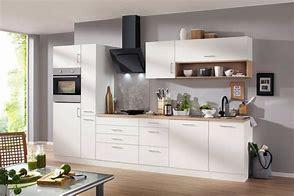cabinet_door: (208, 123, 245, 172), (174, 38, 248, 61), (171, 122, 207, 169), (53, 104, 81, 156), (145, 41, 174, 78), (81, 44, 96, 115), (95, 144, 139, 162), (81, 116, 96, 159), (53, 46, 81, 67), (139, 127, 168, 146), (139, 147, 169, 164), (96, 126, 138, 135), (96, 135, 135, 143), (96, 118, 138, 125), (140, 119, 168, 128)
handle: (218, 124, 239, 129), (180, 123, 199, 128), (168, 62, 174, 75), (202, 54, 217, 59), (75, 52, 81, 64), (147, 149, 161, 154), (76, 106, 81, 118), (147, 121, 161, 125), (146, 130, 160, 134), (112, 146, 124, 150), (111, 128, 123, 132), (111, 138, 123, 142), (83, 110, 93, 114), (83, 118, 93, 122)
